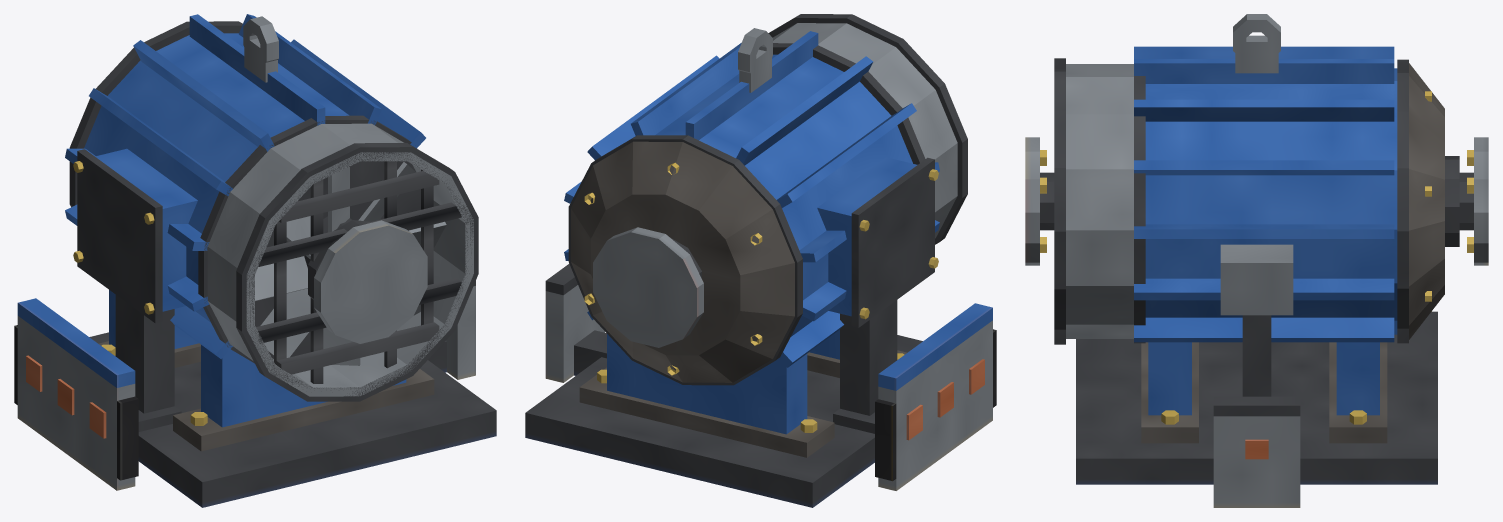
Rendered from shaftmotor.obj.
The picture shows the model from 3 angles, left to right: view 1: azimuth 30°, elevation 25°; view 2: azimuth 150°, elevation 25°; view 3: azimuth 270°, elevation 25°; orthographic projection. The views are drawn at different scales.
Visible parts, largest first — view 1: main, rotor; view 2: main, rotor; view 3: main, rotor.
Boxes of the visible parts, x1,y1,x2,y2 form: main: (14, 14, 496, 507); rotor: (255, 162, 446, 365); main: (525, 14, 996, 507); rotor: (593, 227, 703, 347); main: (1054, 14, 1459, 507); rotor: (1025, 137, 1488, 265).
Size of the model in its own units: 1 by 0.9395 by 1.
Materials: 1 (1 with a texture image).
